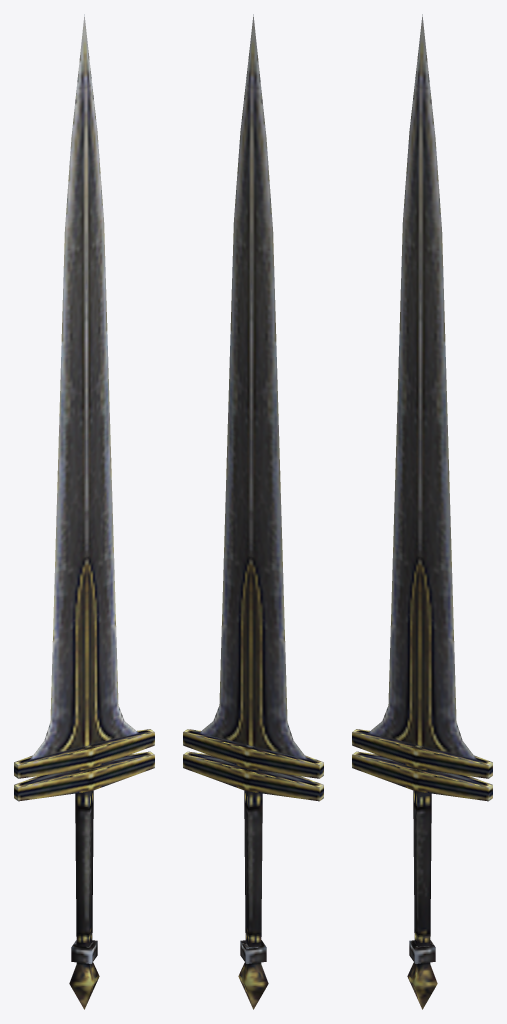
Rendered from TH_Sword03.FBX.
3 views of the same model, side by side, from view 1: azimuth 30°, elevation 25°; view 2: azimuth 150°, elevation 25°; view 3: azimuth 330°, elevation 25° (orthographic).
Visible parts, largest first — view 1: TH_Sword03; view 2: TH_Sword03; view 3: TH_Sword03.
Boxes of the visible parts, x1,y1,x2,y2 form: TH_Sword03: (14, 14, 154, 1009); TH_Sword03: (183, 14, 323, 1009); TH_Sword03: (352, 14, 492, 1009).
Size of the model in its own units: 21.99 by 153 by 4.16.
